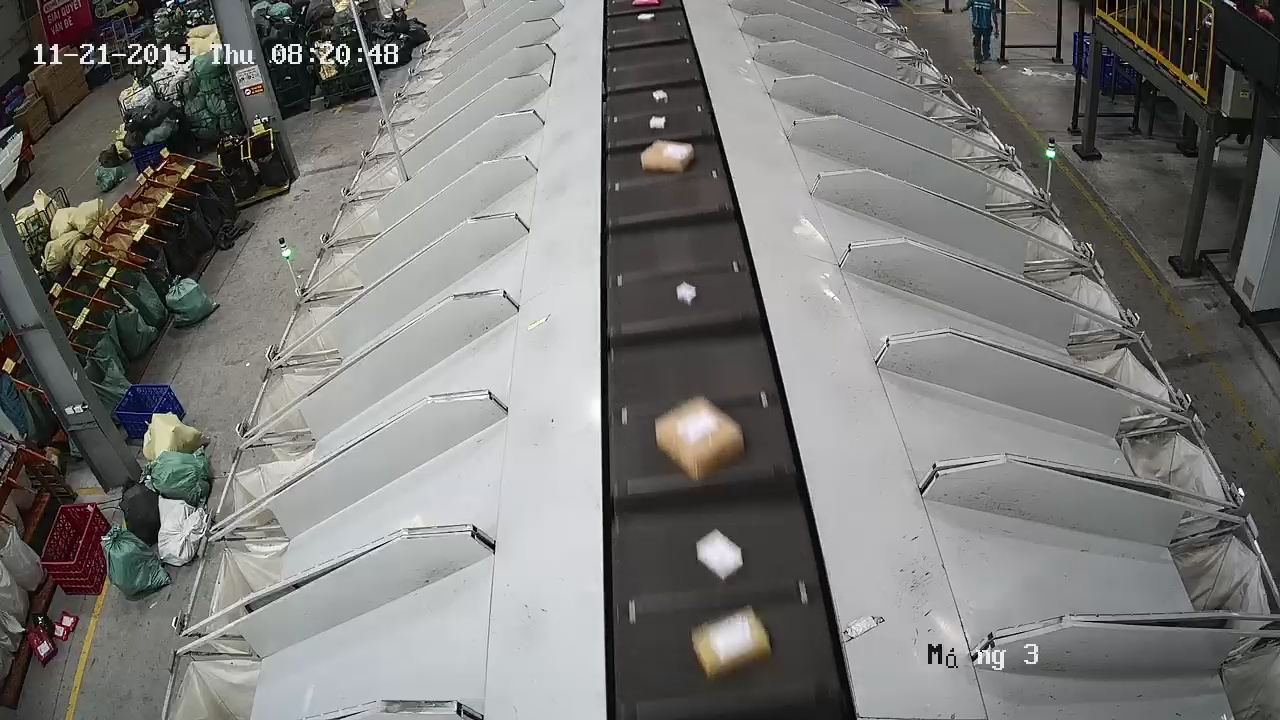parcel: (654, 395, 746, 485), (695, 527, 746, 584), (677, 280, 697, 307)
